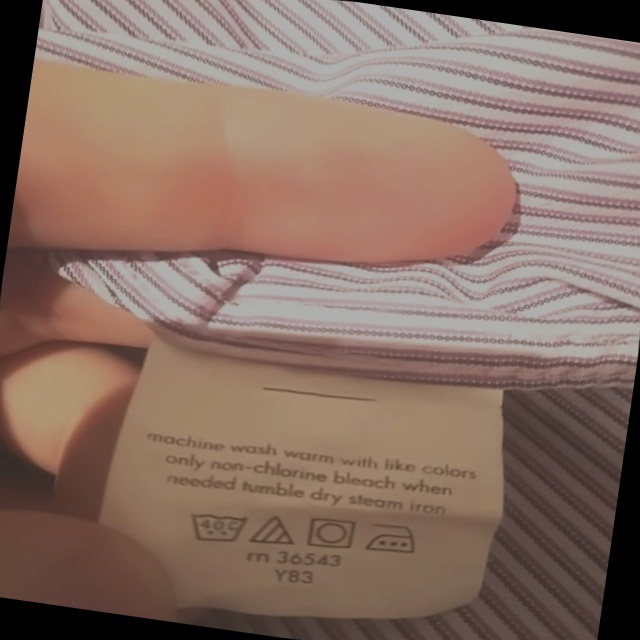40C: (185, 504, 253, 552)
iron_high: (364, 516, 425, 561)
non_chlorine_bleach: (247, 509, 299, 553)
tumble_dry_normal: (304, 513, 362, 556)
